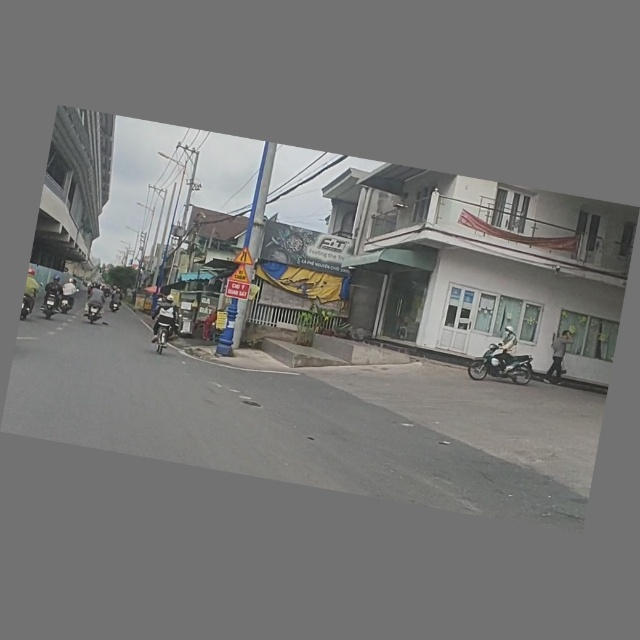W.203b: (233, 246, 256, 267)
W.245a: (229, 263, 253, 284)
